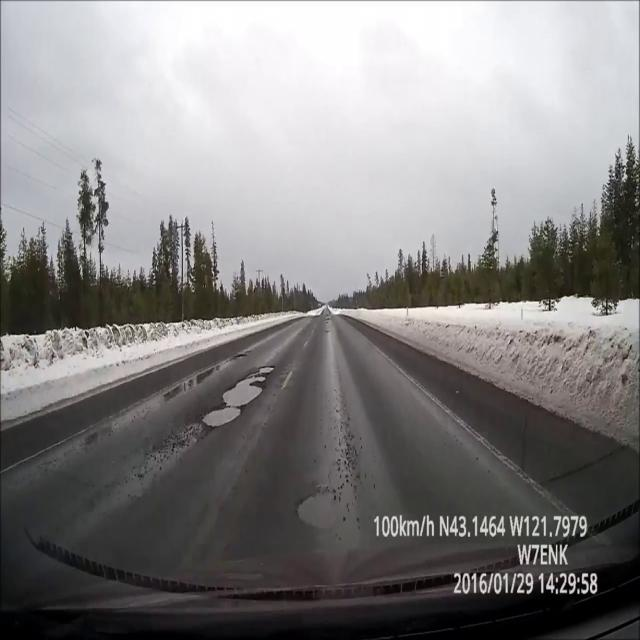Pothole: (294, 484, 343, 534), (221, 366, 275, 405), (202, 406, 244, 429), (233, 352, 248, 360), (325, 329, 330, 333), (325, 318, 330, 321), (326, 322, 329, 324), (326, 314, 328, 316)
